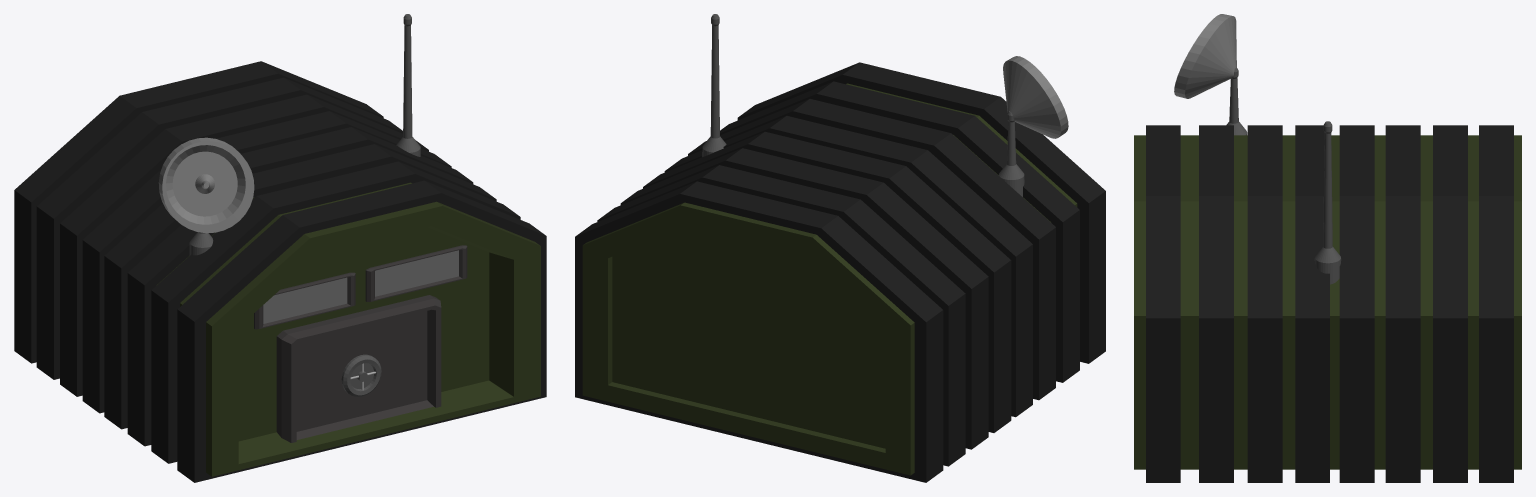
The model's file is MainBASE.dae.
The picture shows the model from 3 angles, left to right: view 1: azimuth 30°, elevation 25°; view 2: azimuth 150°, elevation 25°; view 3: azimuth 270°, elevation 25°; orthographic projection. The views are drawn at different scales.
Parts seen in each view (by area): view 1: Cube, Cube.009, Cube.002, Cube.003, Cube.001, Cube.008, Cube.007, Cube.004, Cube.005, Cube.006, Cone, Cube.011 (+3 smaller); view 2: Cube, Cube.008, Cube.002, Cube.007, Cube.006, Cube.004, Cube.001, Cube.003, Cube.005, Cone, Cylinder.003, Cylinder.004; view 3: Cube, Cube.007, Cube.004, Cube.006, Cube.008, Cube.003, Cube.002, Cube.001, Cube.005, Cone, Cylinder.003, Cylinder.004.
Part boxes in pixels (bbox=[...]): Cube: bbox=[156, 182, 540, 476]; Cube.009: bbox=[276, 295, 441, 442]; Cube.002: bbox=[177, 180, 546, 482]; Cube.003: bbox=[151, 161, 520, 463]; Cube.001: bbox=[36, 77, 402, 379]; Cube.008: bbox=[14, 61, 383, 363]; Cube.007: bbox=[60, 94, 428, 396]; Cube.004: bbox=[127, 144, 496, 446]; Cube.005: bbox=[104, 127, 473, 429]; Cube.006: bbox=[82, 111, 451, 413]; Cone: bbox=[158, 137, 254, 233]; Cube.011: bbox=[365, 245, 467, 301]; Cube: bbox=[582, 83, 1077, 475]; Cube.008: bbox=[575, 181, 943, 482]; Cube.002: bbox=[737, 62, 1105, 363]; Cube.007: bbox=[620, 148, 988, 449]; Cube.006: bbox=[643, 131, 1011, 432]; Cube.004: bbox=[688, 99, 1055, 400]; Cube.001: bbox=[597, 165, 965, 466]; Cube.003: bbox=[720, 81, 1079, 382]; Cube.005: bbox=[664, 116, 1032, 417]; Cone: bbox=[1003, 56, 1068, 138]; Cylinder.003: bbox=[702, 14, 726, 156]; Cylinder.004: bbox=[998, 111, 1024, 196]; Cube: bbox=[1134, 135, 1521, 469]; Cube.007: bbox=[1385, 125, 1420, 482]; Cube.004: bbox=[1247, 125, 1282, 482]; Cube.006: bbox=[1339, 125, 1374, 482]; Cube.008: bbox=[1479, 125, 1513, 482]; Cube.003: bbox=[1199, 125, 1233, 482]; Cube.002: bbox=[1146, 125, 1180, 482]; Cube.001: bbox=[1433, 125, 1467, 482]; Cube.005: bbox=[1295, 125, 1329, 482]; Cone: bbox=[1174, 14, 1236, 98]; Cylinder.003: bbox=[1314, 121, 1341, 284]; Cylinder.004: bbox=[1226, 67, 1247, 135].
Bounding box in the file's own units: 7.09 × 6.63 × 6.33.
